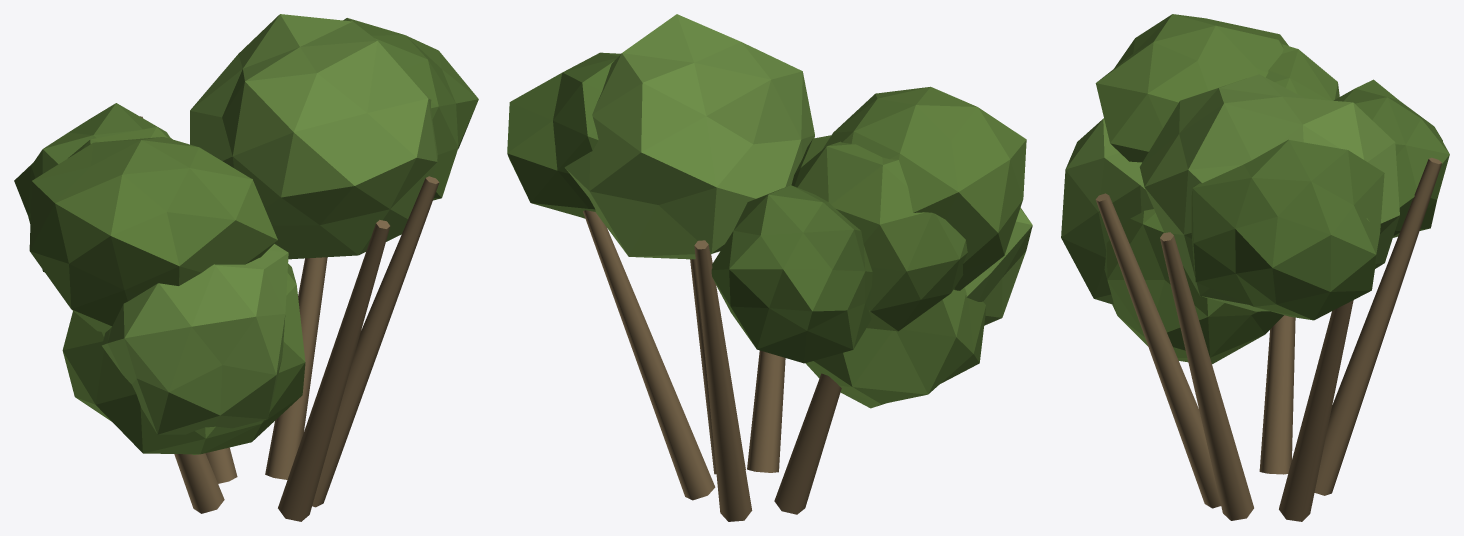
The model's file is kushch_lishchyna.glb.
3 views of the same model, side by side, from view 1: azimuth 30°, elevation 25°; view 2: azimuth 150°, elevation 25°; view 3: azimuth 270°, elevation 25° (orthographic). The views are drawn at different scales.
Parts seen in each view (by area): view 1: leaves (×7), trunk (×13); view 2: leaves (×7), trunk (×12); view 3: leaves (×7), trunk (×17).
Boxes of the visible parts, box(x1,y1,x2,y2) form: leaves (×7): box(14, 14, 478, 454); trunk (×13): box(174, 176, 439, 521); leaves (×7): box(507, 14, 1032, 408); trunk (×12): box(583, 210, 841, 521); leaves (×7): box(1061, 14, 1449, 364); trunk (×17): box(1095, 157, 1441, 521).
Size of the model in its own units: 2.61 by 2.43 by 1.94.
